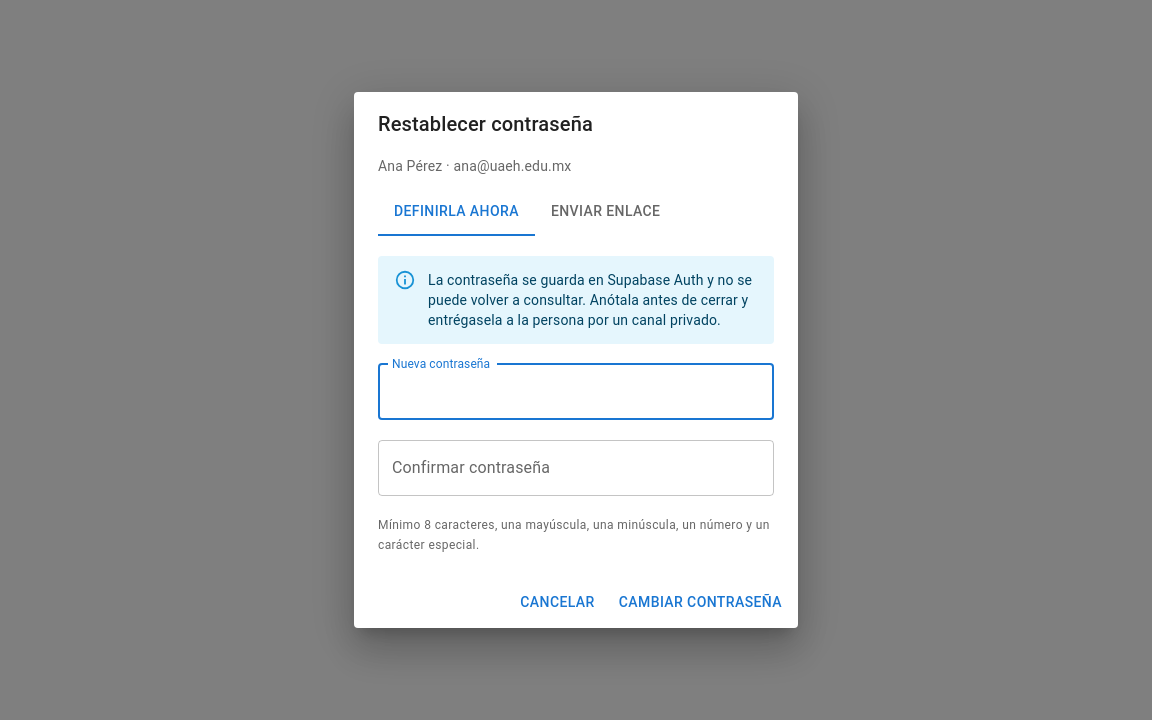
DialogoContrasena › con un envío reciente el botón de correo queda bloqueado
Click the tab "Enviar enlace" at x=606, y=212, box 535,188 -> 676,236
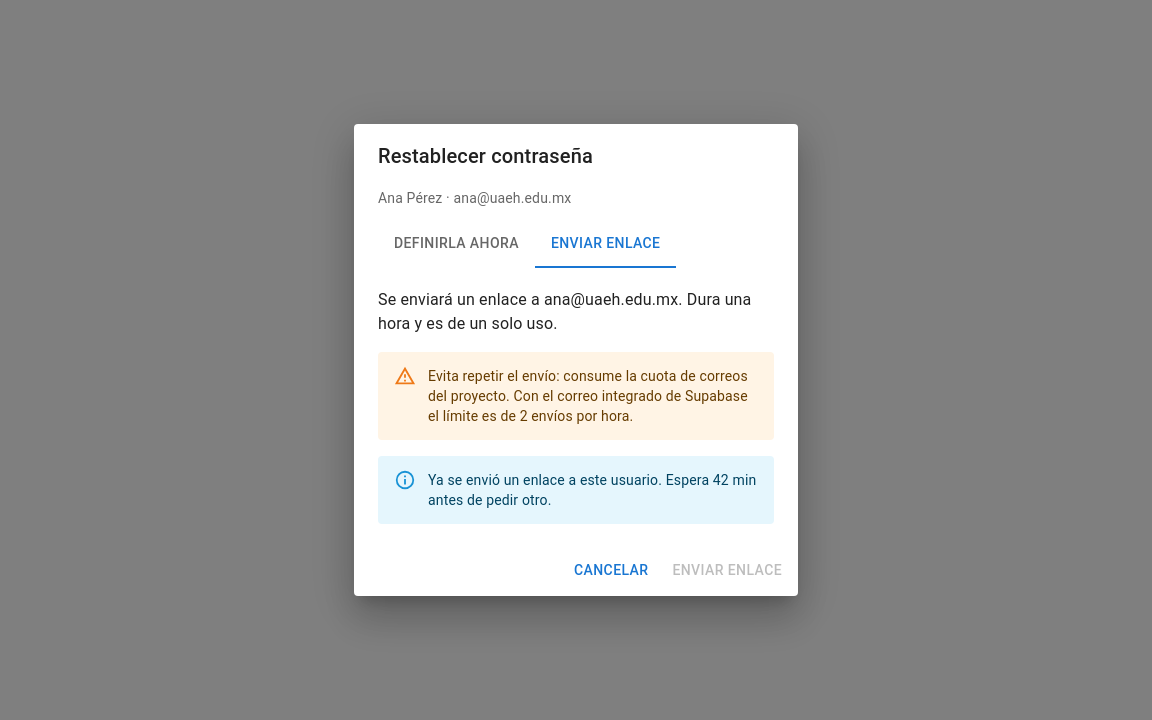
Check: the text "Espera 42 min" is shown, box 428,462 -> 758,518
Check: the button "Enviar enlace" is disabled, box 664,552 -> 790,588
